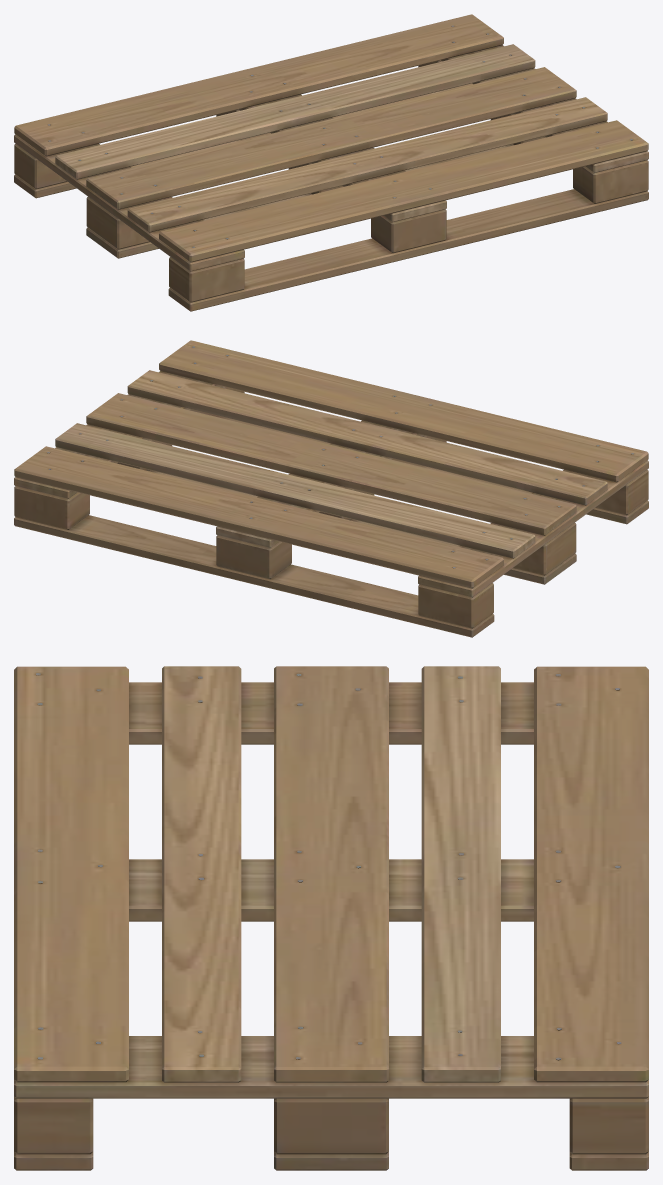
The model's file is wooden-pallet.glb.
3 views of the same model, one above another, from view 1: azimuth 30°, elevation 25°; view 2: azimuth 150°, elevation 25°; view 3: azimuth 270°, elevation 25° (orthographic). The views are drawn at different scales.
Parts seen in each view (by area): view 1: wooden-pallet_body; view 2: wooden-pallet_body; view 3: wooden-pallet_body.
Boxes of the visible parts, x1,y1,x2,y2 form: wooden-pallet_body: [14, 14, 648, 311]; wooden-pallet_body: [14, 340, 648, 637]; wooden-pallet_body: [14, 666, 648, 1170].
Size of the model in its own units: 1.2 by 0.1444 by 0.8.
Materials: 1 (1 with a texture image).
